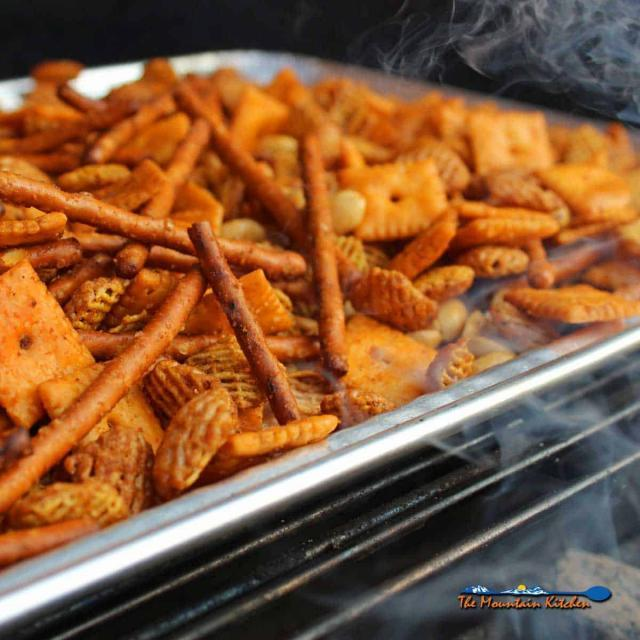Salatini: (9, 57, 640, 495)
